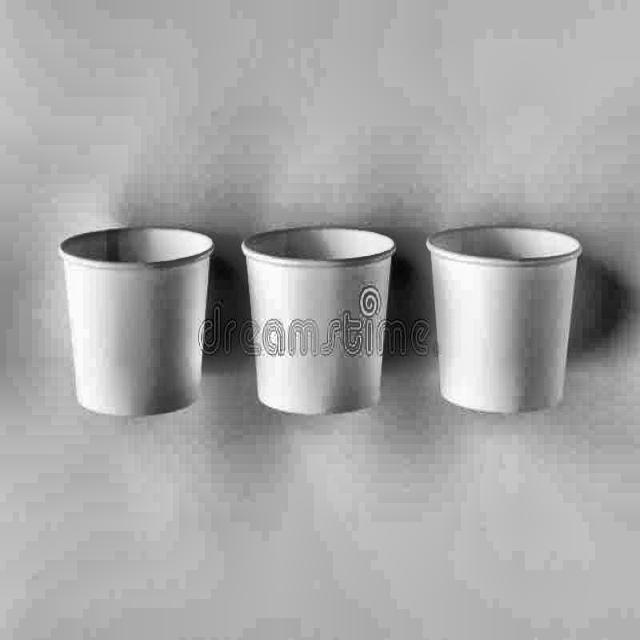Cup: (412, 219, 592, 422), (58, 217, 228, 430), (245, 218, 402, 438)
